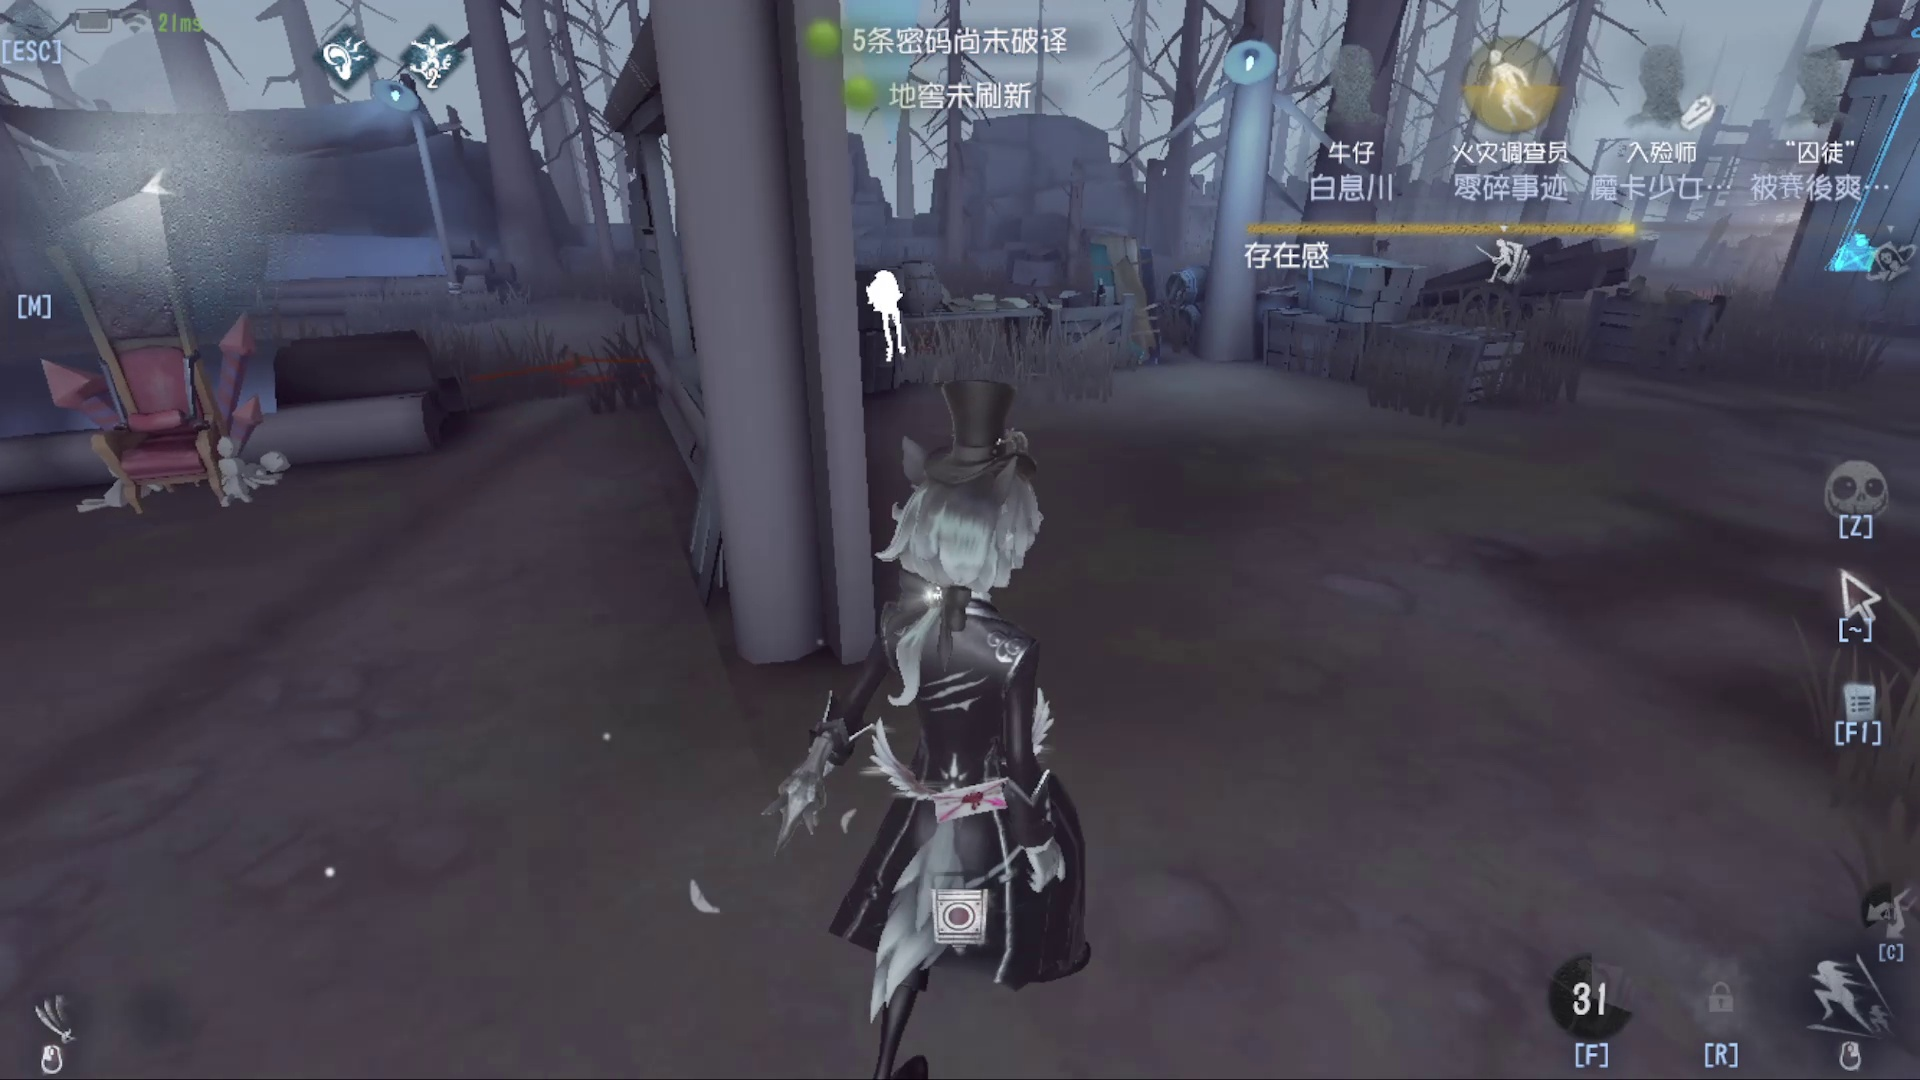木板: (1084, 207, 1175, 367)
狂欢之椅: (45, 156, 291, 518)
脚印: (429, 318, 662, 430)
